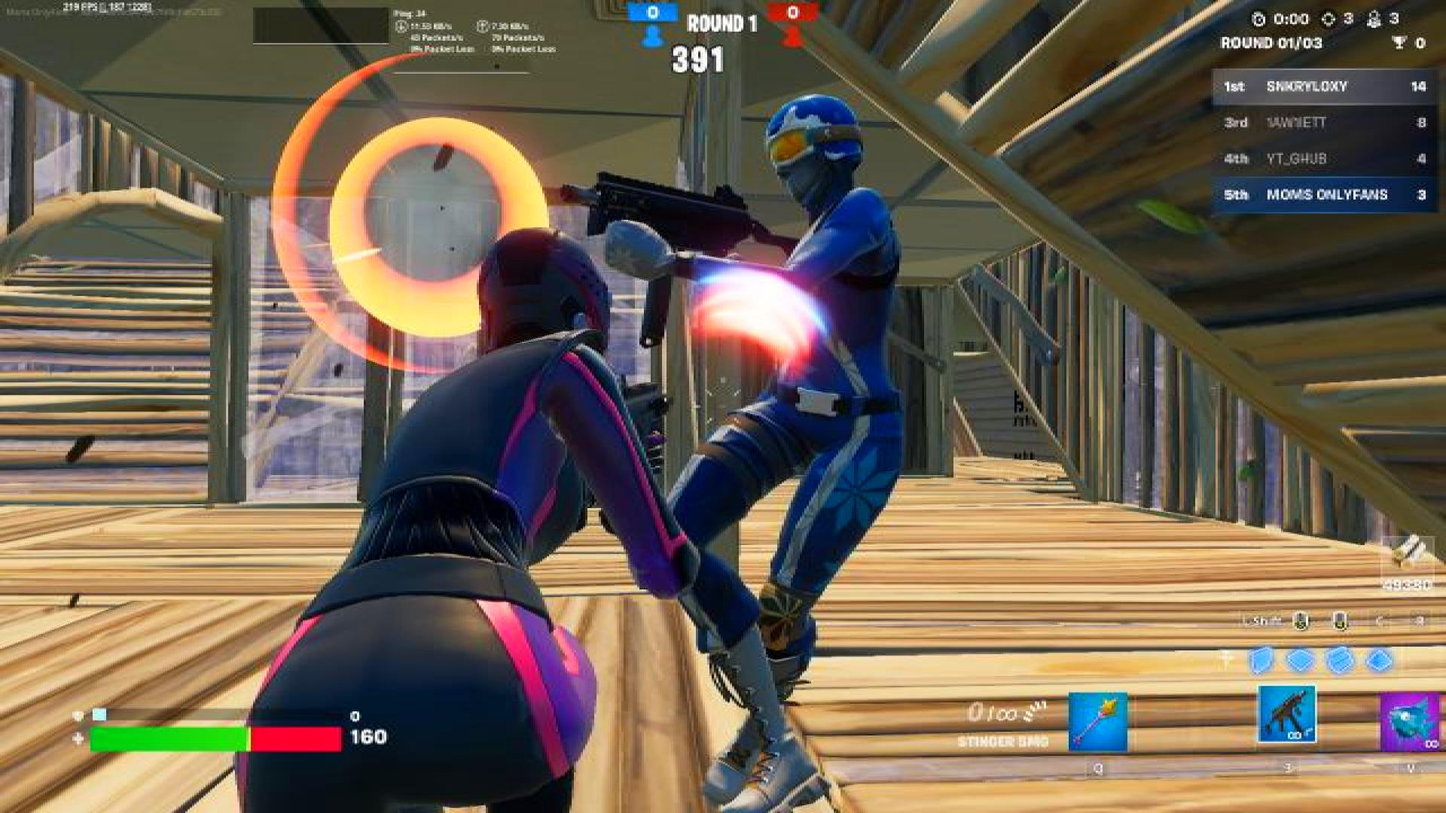player: (201, 206, 663, 813), (674, 97, 952, 787)
